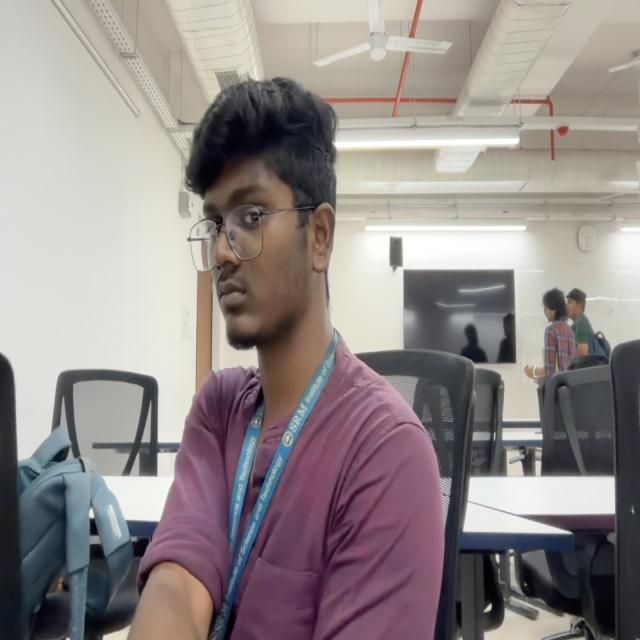ravindra: (185, 81, 340, 363)
